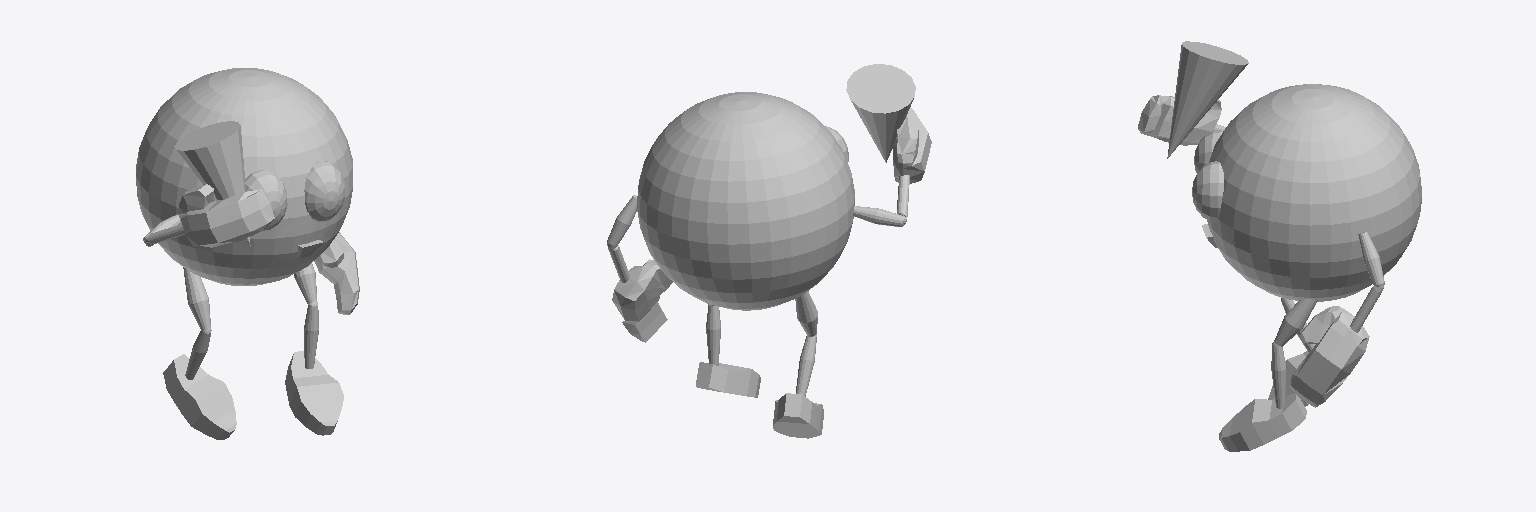
The model's file is runToStand_000056.obj.
3 renders of one model, left to right at view 1: azimuth 30°, elevation 25°; view 2: azimuth 150°, elevation 25°; view 3: azimuth 270°, elevation 25°, orthographic.
Visible parts, largest first — view 1: Rusko_Sphere; view 2: Rusko_Sphere; view 3: Rusko_Sphere.
Boxes of the visible parts, box(x1,y1,x2,y2) form: Rusko_Sphere: box(136, 68, 359, 439); Rusko_Sphere: box(607, 64, 931, 438); Rusko_Sphere: box(1138, 41, 1421, 451).
Size of the model in its own units: 5.28 by 7.04 by 5.21.